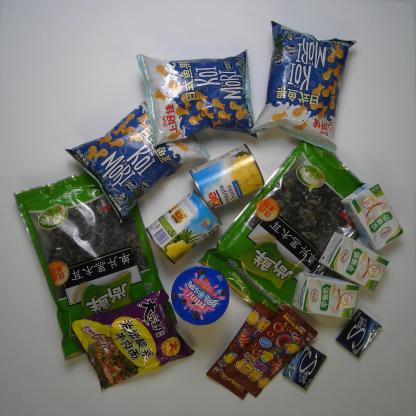Candy: (223, 304, 319, 398), (205, 300, 279, 400)
Canned Food: (145, 189, 223, 264), (188, 142, 265, 210)
Dessert: (171, 264, 230, 326)
Dried Food: (13, 170, 178, 363), (197, 141, 368, 315)
Gum: (334, 308, 383, 358), (282, 344, 328, 391)
Instant Noodles: (69, 288, 196, 391)
Milk: (340, 181, 405, 252), (317, 231, 390, 293), (291, 272, 360, 320)
Puffed Food: (64, 98, 212, 224), (249, 19, 358, 153), (135, 48, 259, 148)
